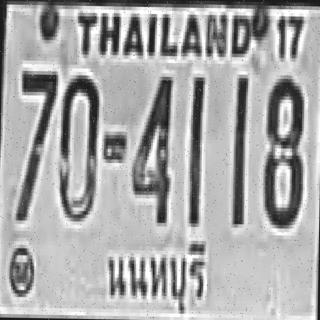N00: (57, 71, 98, 218)
N01: (230, 74, 246, 224), (187, 74, 203, 223)
N04: (130, 72, 172, 219)
N07: (16, 67, 56, 217)
N08: (262, 75, 303, 225)
